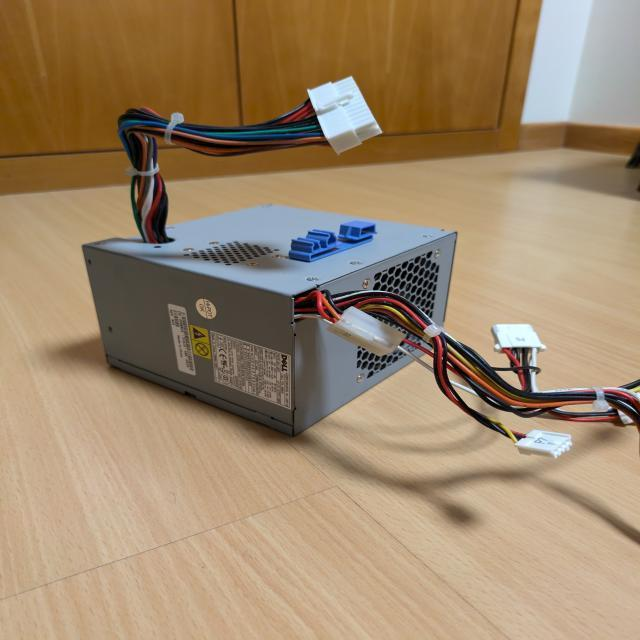PSU: (81, 204, 458, 437)
